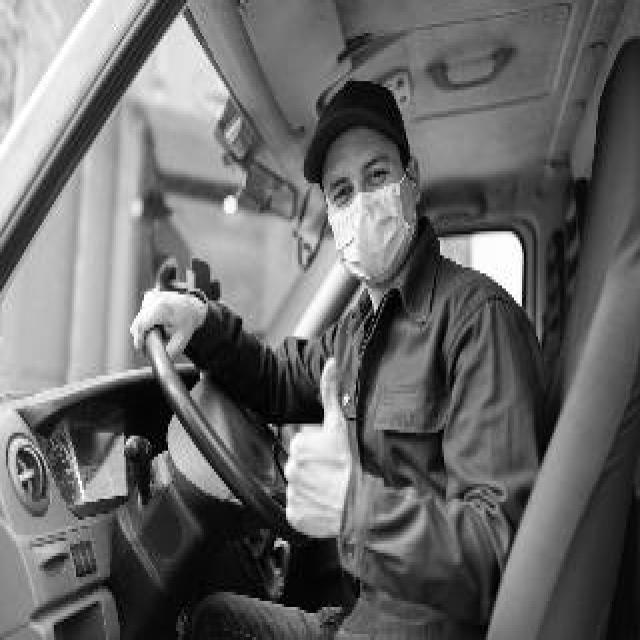Focused: (324, 126, 404, 278)
